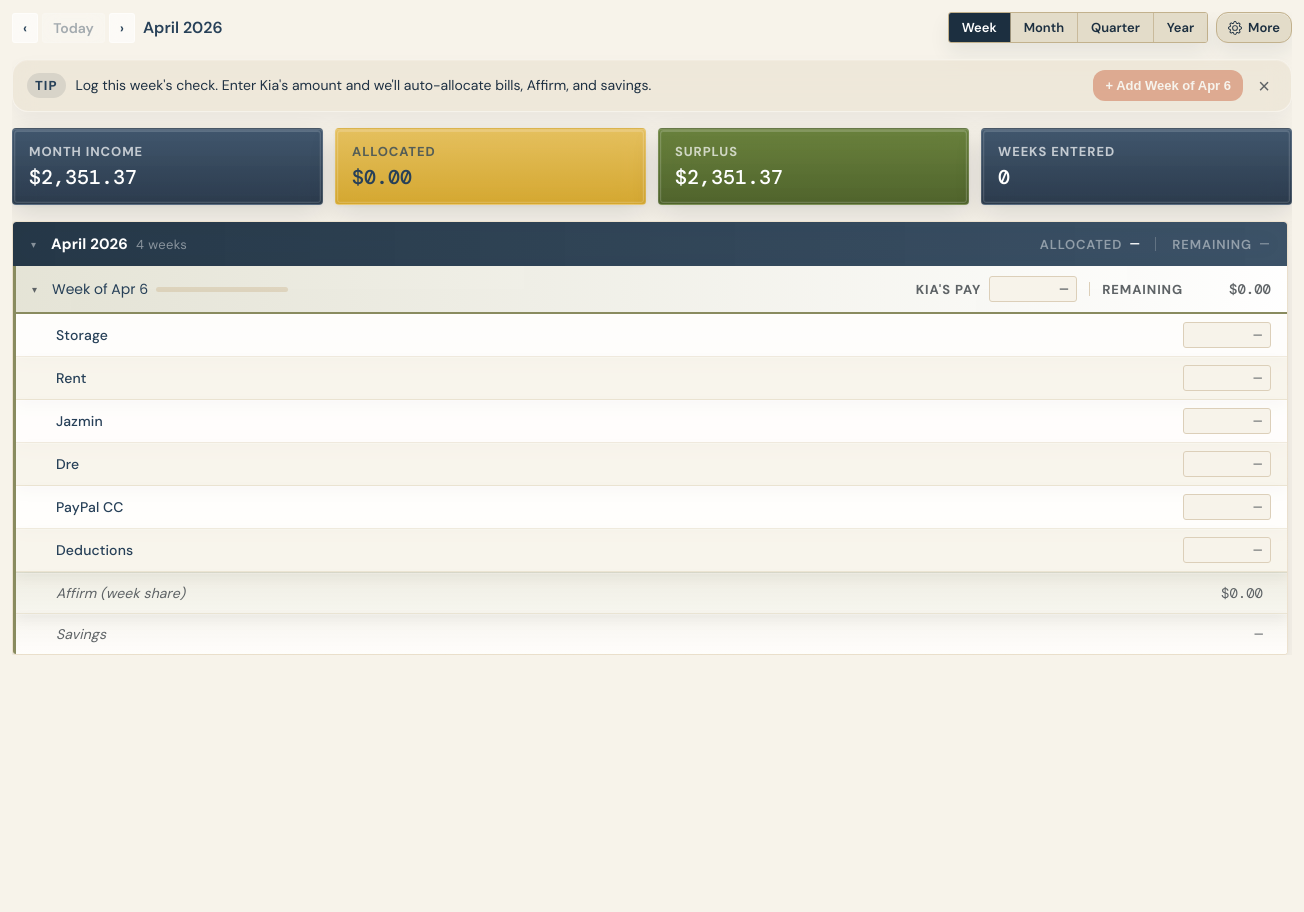
Test: PaycheckTab — navigation (weekly + today branches) › crosses month boundary navigating next in weekly view (line 208)
Click the button named "Next week".
click(122, 28)  # box [109,12,135,42]
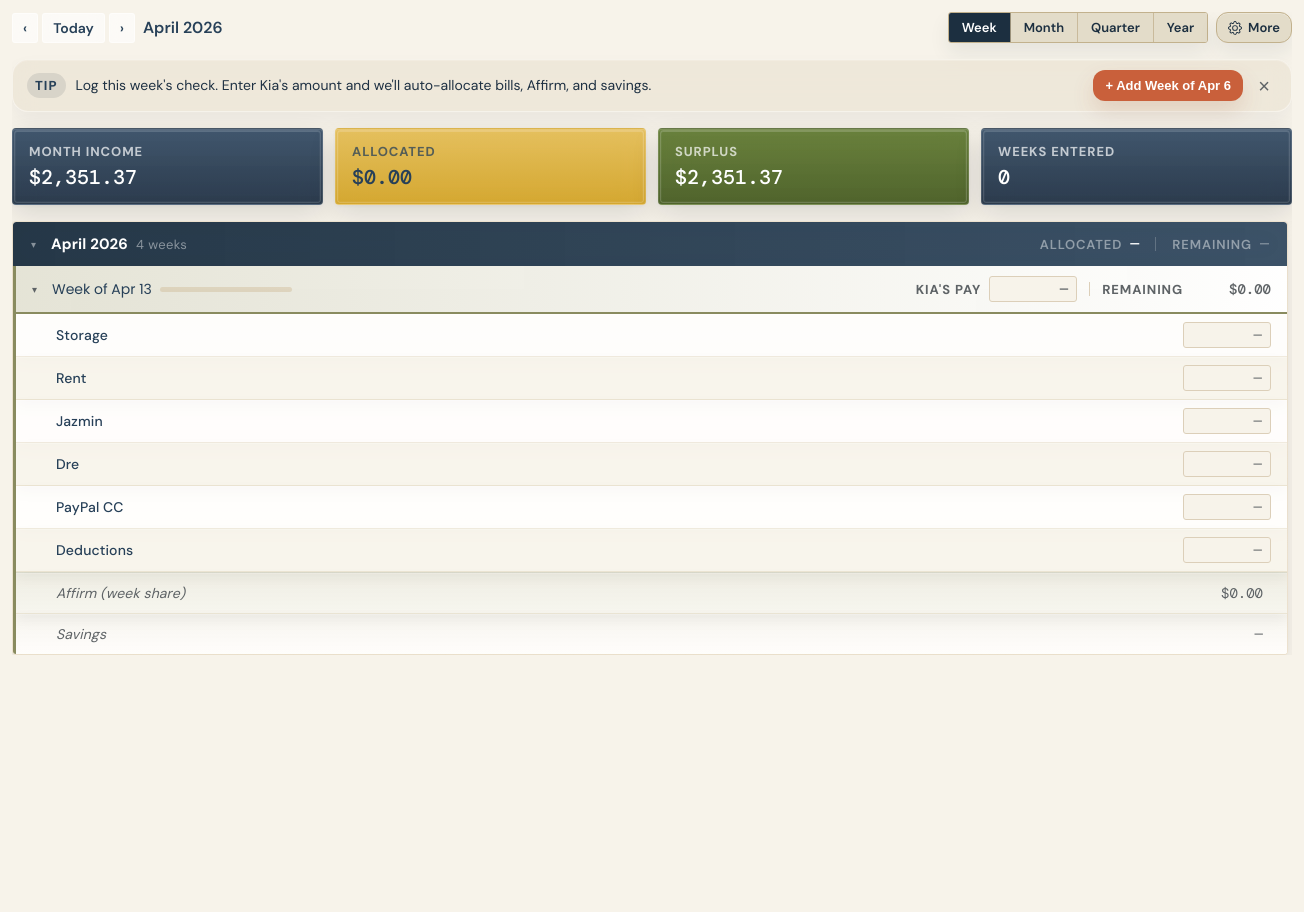
Click the button named "Next week".
click(122, 28)  # box [109,12,135,42]
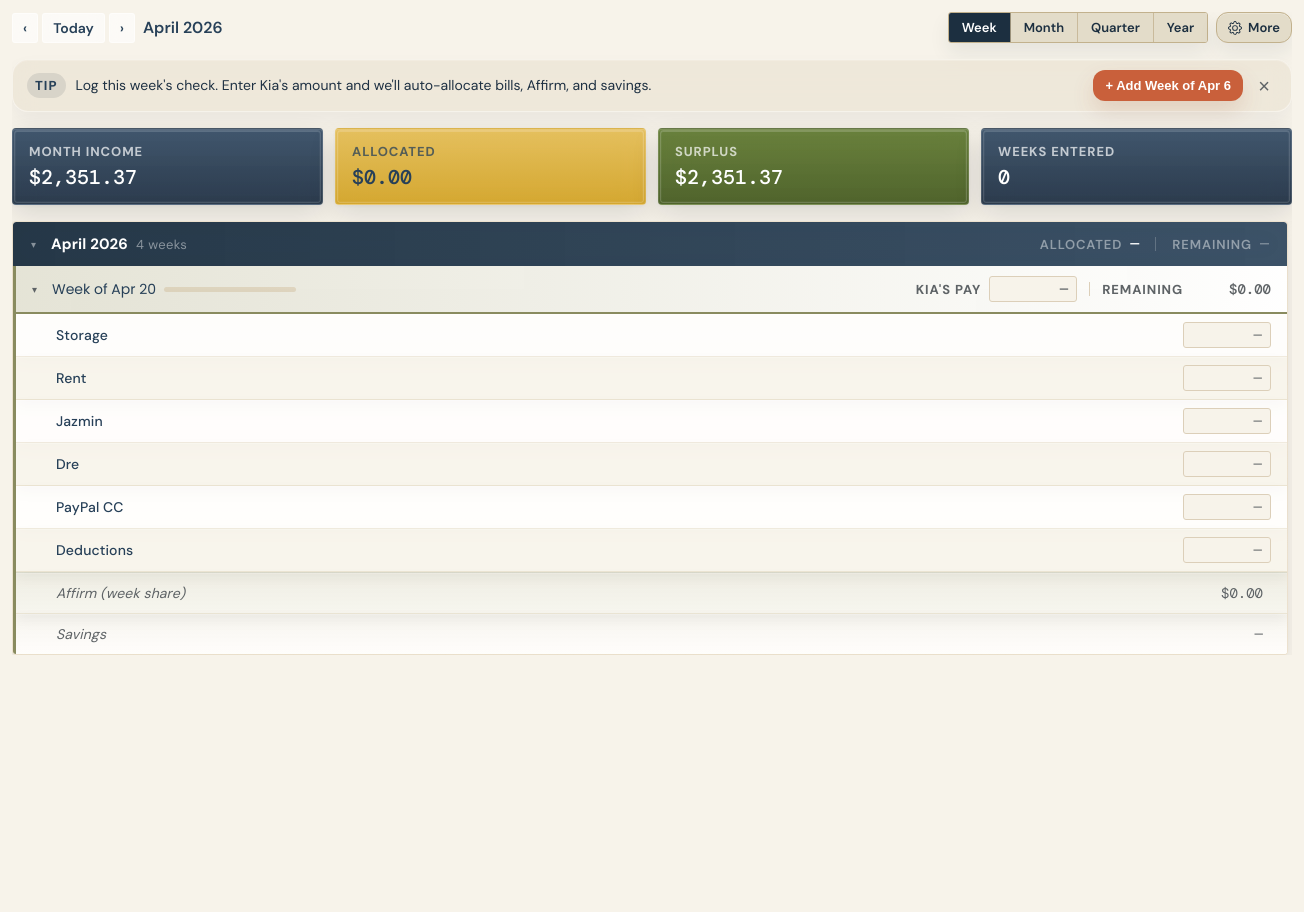
Click the button named "Next week".
click(122, 28)  # box [109,12,135,42]
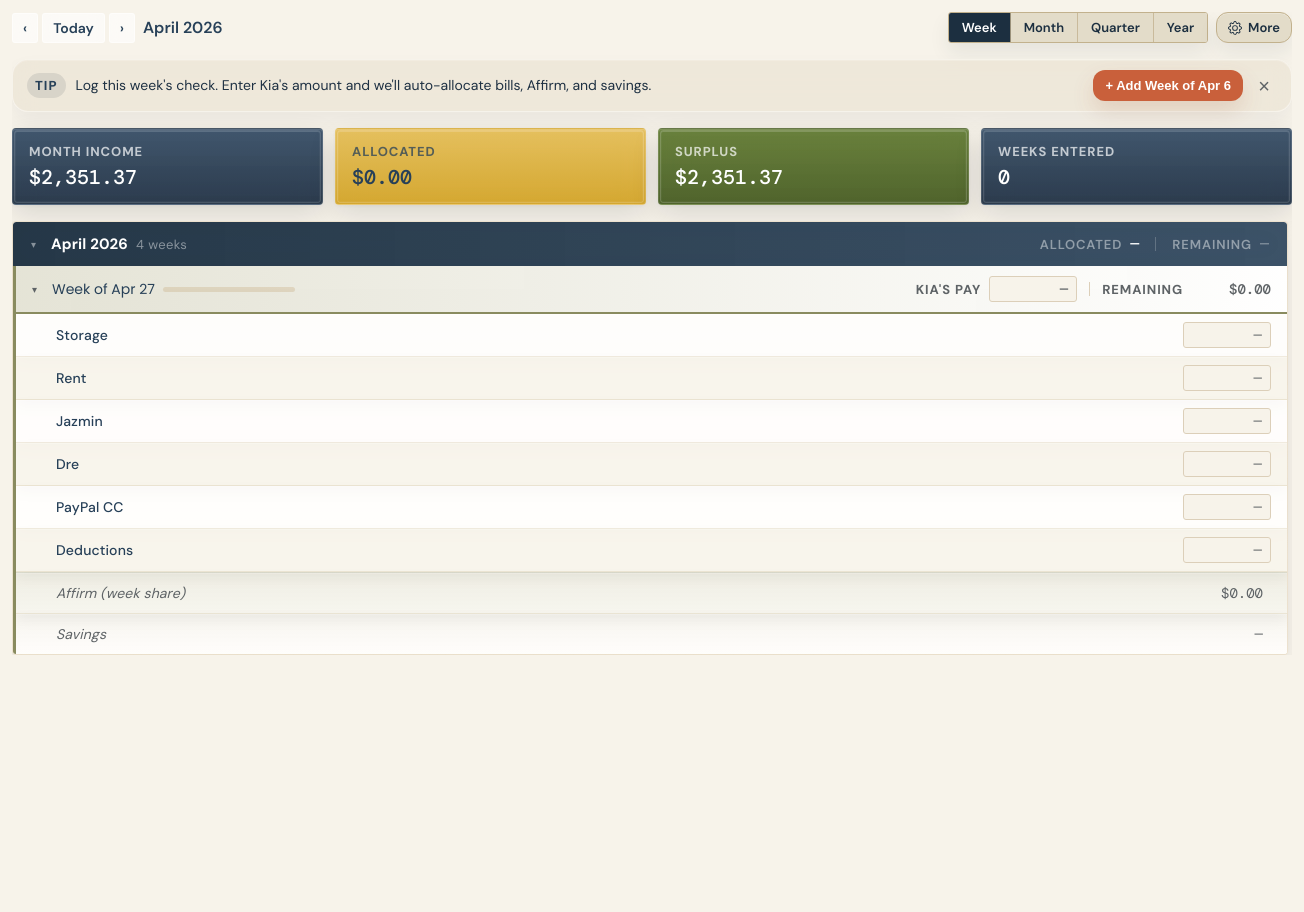
Click the button named "Next week".
click(122, 28)  # box [109,12,135,42]
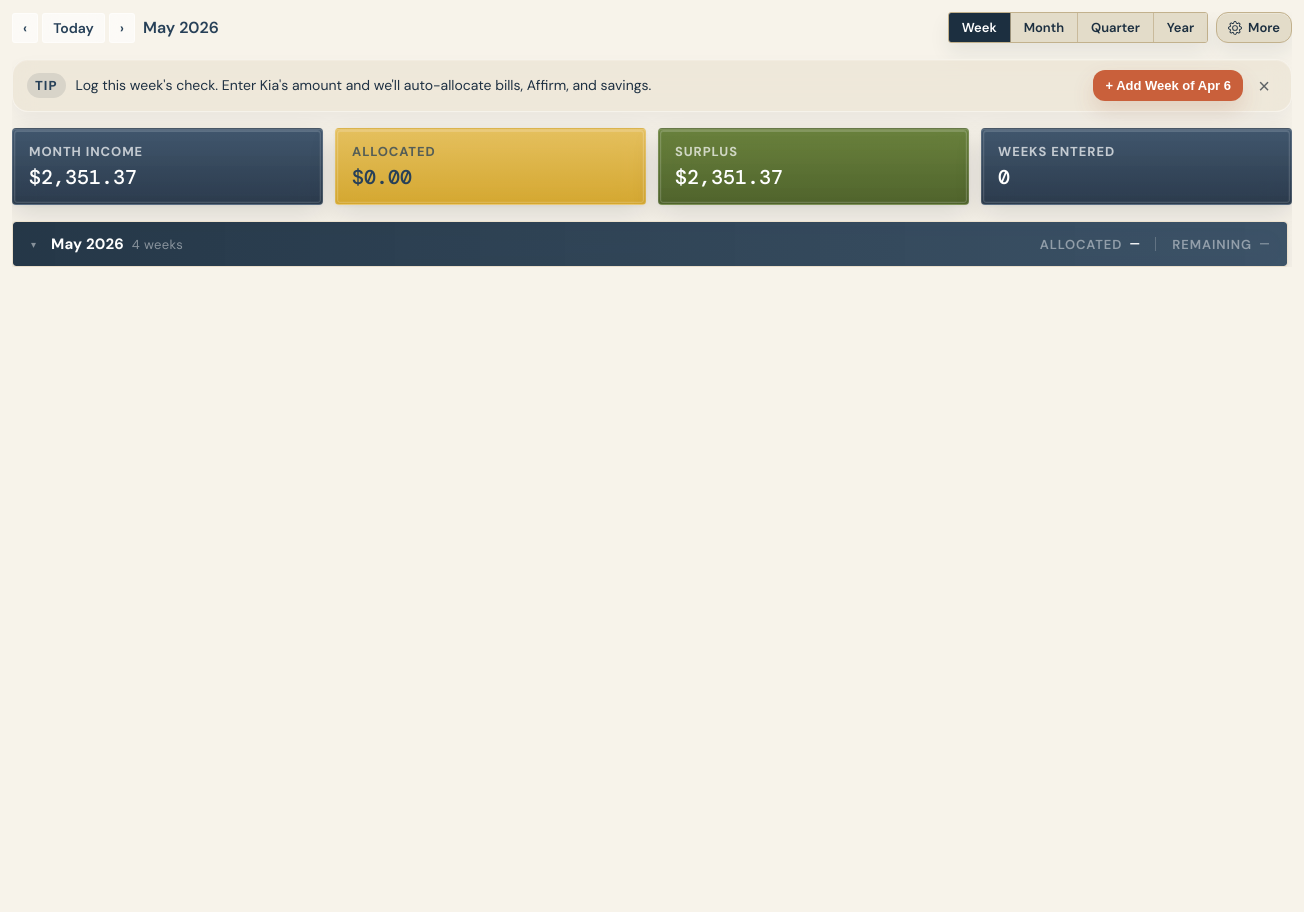
expect the heading "May 2026" is shown: met, box [143,17,219,38]
